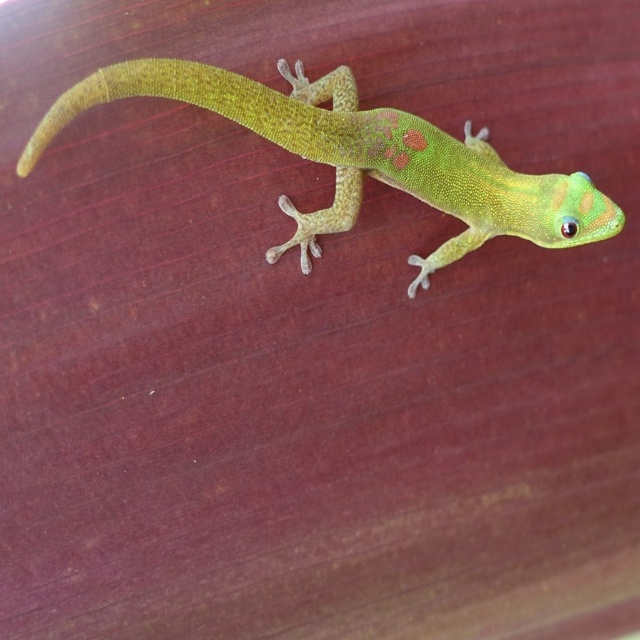Lizard: (19, 59, 623, 295)
